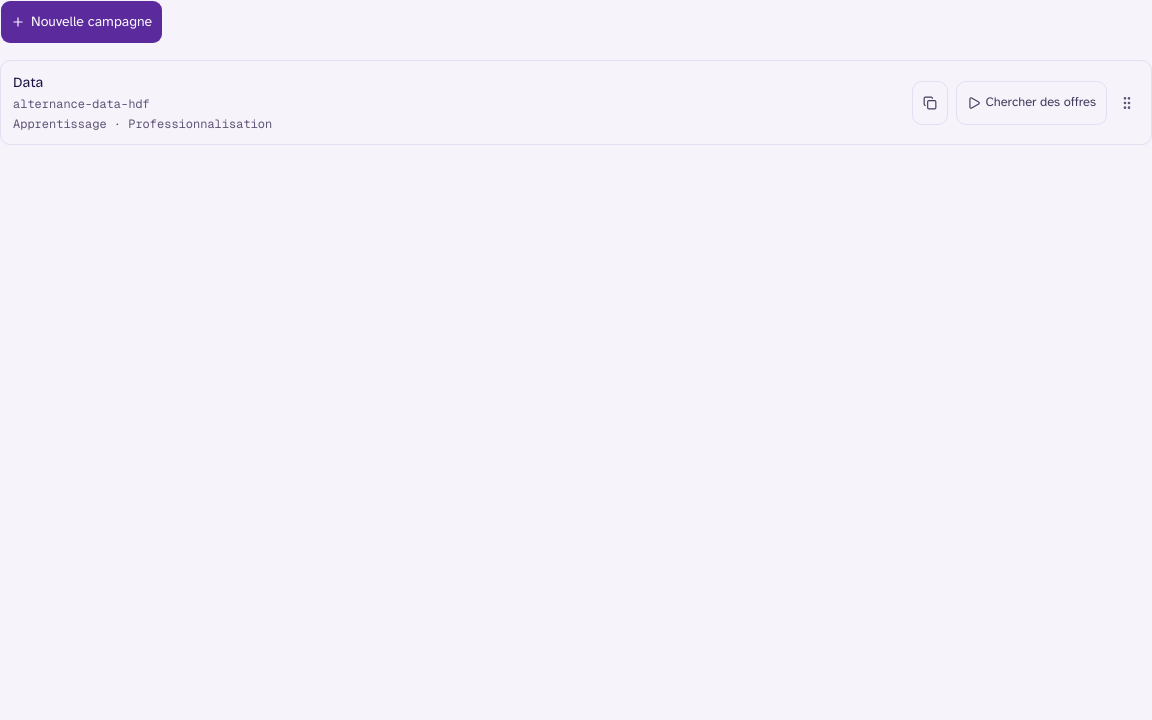
Test: CampaignsManager › submits a duplicated campaign as a new campaign via createCampaign, not updateCampaign
Click the button named "Dupliquer Data".
click(930, 103)  # box [912,81,948,125]
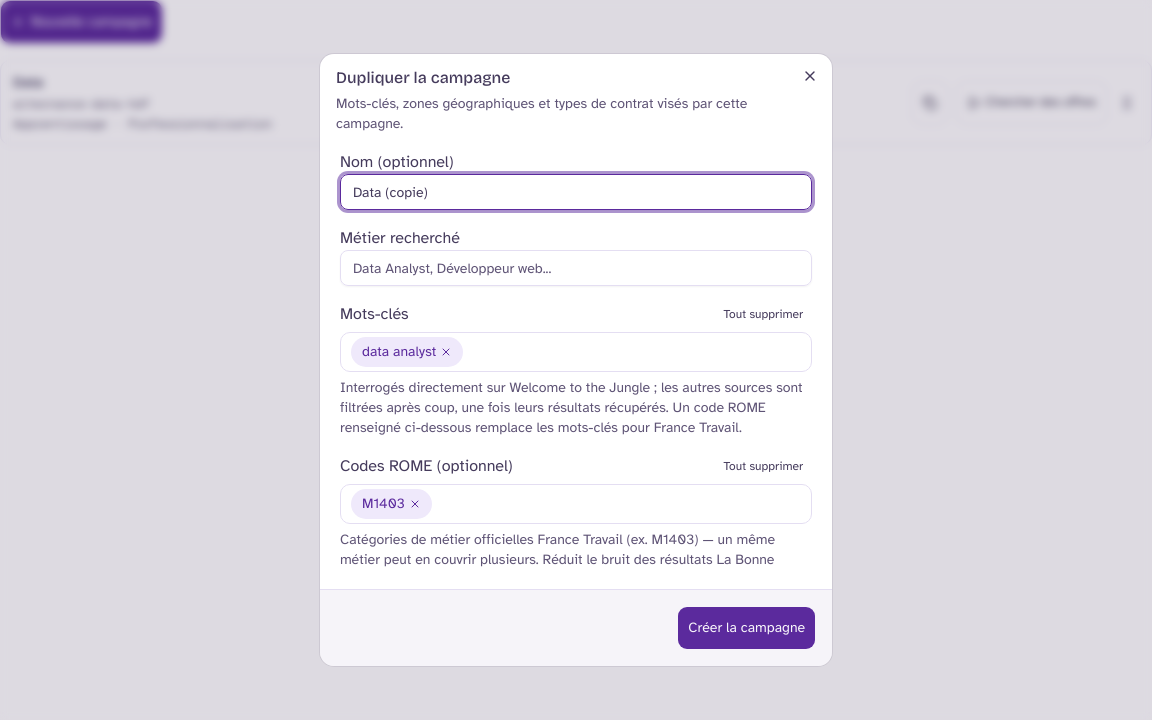
Click the button "Créer la campagne".
click(747, 628)  # box [677,606,816,650]
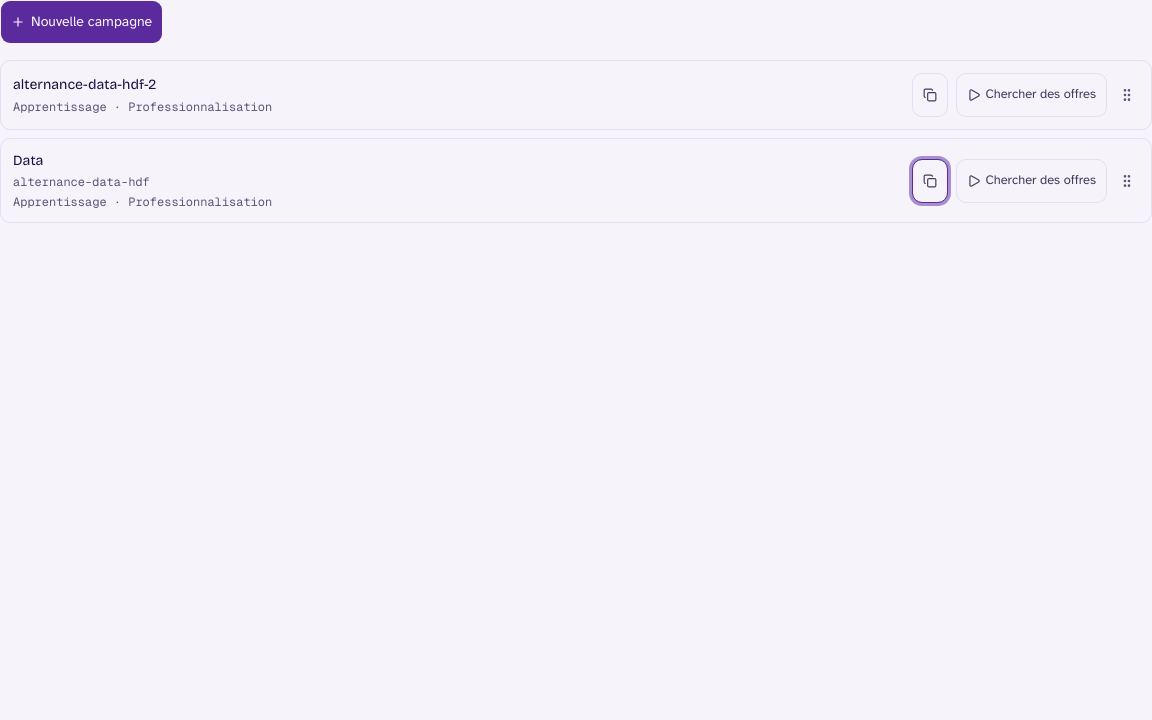
Expected: the text "alternance-data-hdf-2" is shown, [13,75,156,95]
